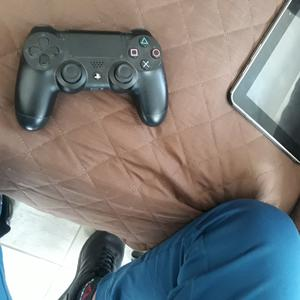controller: (15, 26, 167, 130)
